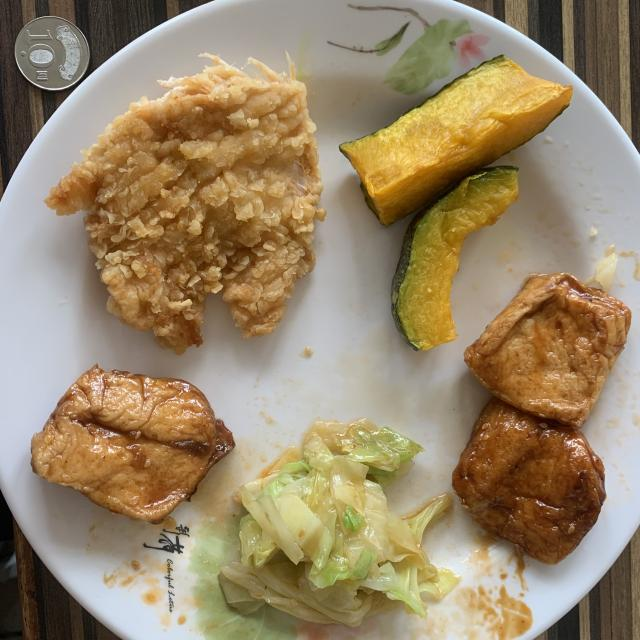cabbage: (218, 420, 459, 626)
coin: (15, 16, 90, 90)
creamy tofu: (452, 274, 631, 564), (31, 365, 234, 524)
fried chicken cutlet: (45, 55, 324, 352)
pumpkin: (340, 56, 572, 350)
